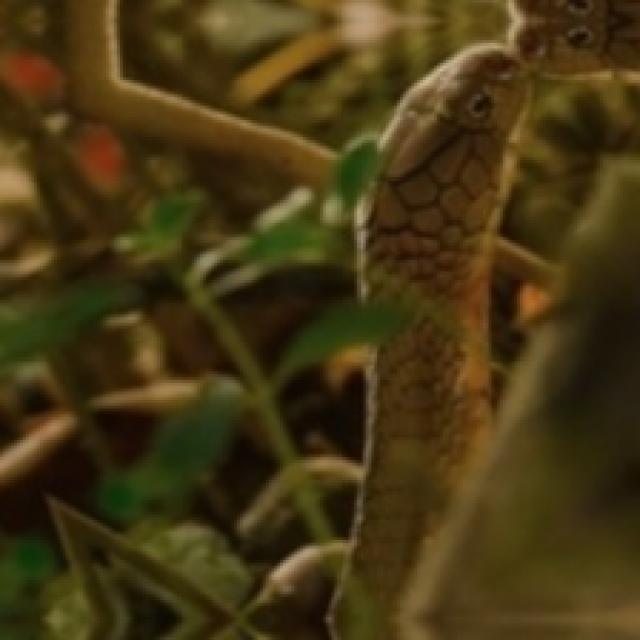king cobra: (334, 0, 637, 637)
